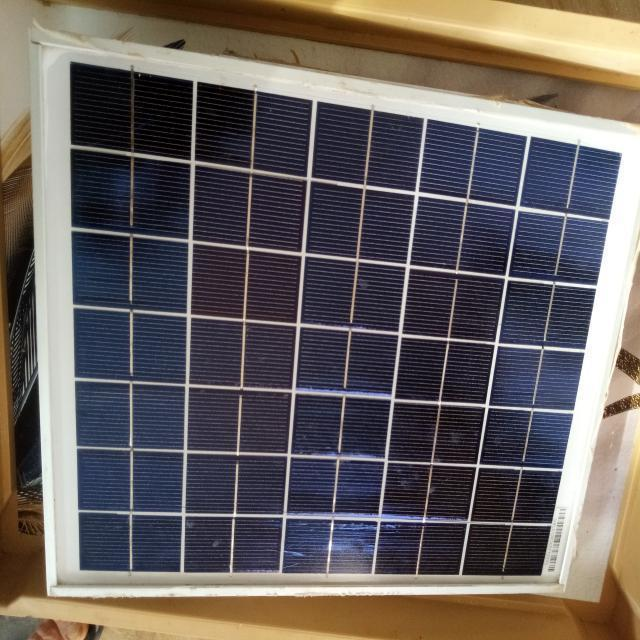Normal Solar Panel: (35, 37, 640, 594)
